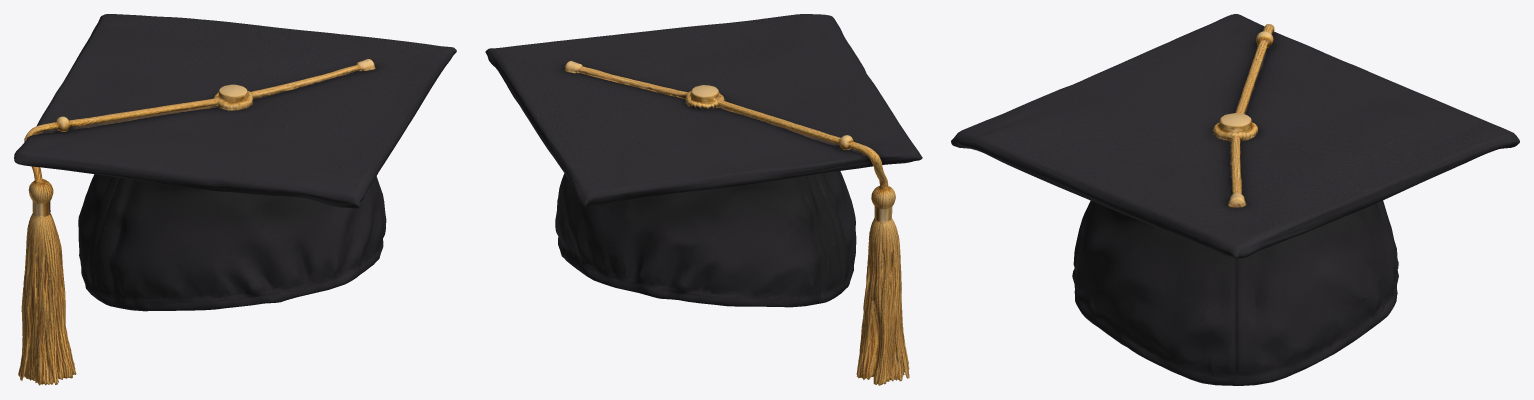
File: scholar-premium-graduation-cap.glb
The picture shows the model from 3 angles, left to right: view 1: azimuth 30°, elevation 25°; view 2: azimuth 150°, elevation 25°; view 3: azimuth 270°, elevation 25°; orthographic projection. The views are drawn at different scales.
Visible parts, largest first — view 1: tripo_node_9ac8db1a-8fdf-4fe5-8d3d-ce3729372800; view 2: tripo_node_9ac8db1a-8fdf-4fe5-8d3d-ce3729372800; view 3: tripo_node_9ac8db1a-8fdf-4fe5-8d3d-ce3729372800.
Part boxes in pixels (box(x1,y1,x2,y2)): tripo_node_9ac8db1a-8fdf-4fe5-8d3d-ce3729372800: box(14, 14, 456, 385); tripo_node_9ac8db1a-8fdf-4fe5-8d3d-ce3729372800: box(485, 14, 922, 385); tripo_node_9ac8db1a-8fdf-4fe5-8d3d-ce3729372800: box(951, 14, 1519, 385).
Size of the model in its own units: 0.5702 by 0.3 by 0.5696.
1 material, 1 textured.
